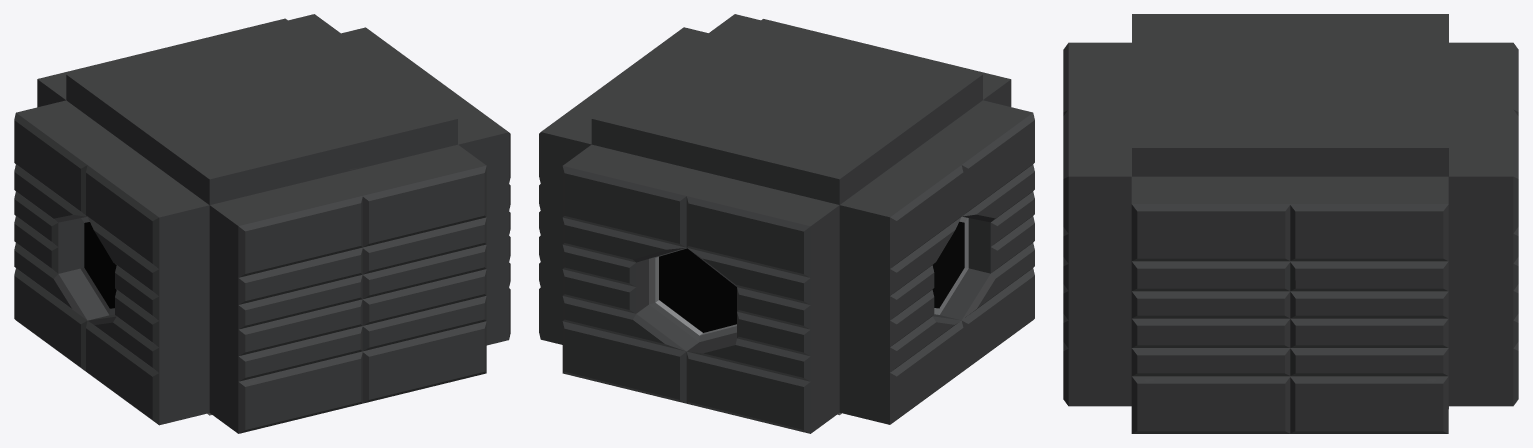
The model's file is connection.fbx.
The picture shows the model from 3 angles, left to right: view 1: azimuth 30°, elevation 25°; view 2: azimuth 150°, elevation 25°; view 3: azimuth 270°, elevation 25°; orthographic projection. The views are drawn at different scales.
Visible parts, largest first — view 1: c_wall4, c_wall1, c_celing, c_wall3, c_wall2; view 2: c_wall2, c_wall1, c_celing, c_wall3, c_wall4; view 3: c_wall3, c_celing, c_wall2, c_wall4.
Part boxes in pixels (left/top/right/bottom): c_wall4: left=209, top=144, right=486, bottom=433; c_wall1: left=14, top=100, right=209, bottom=425; c_celing: left=66, top=14, right=457, bottom=205; c_wall3: left=341, top=27, right=510, bottom=345; c_wall2: left=37, top=18, right=287, bottom=107; c_wall2: left=562, top=144, right=839, bottom=433; c_wall1: left=839, top=100, right=1034, bottom=424; c_celing: left=591, top=14, right=982, bottom=204; c_wall3: left=539, top=27, right=708, bottom=344; c_wall4: left=761, top=19, right=1011, bottom=106; c_wall3: left=1131, top=176, right=1448, bottom=433; c_celing: left=1132, top=14, right=1448, bottom=176; c_wall2: left=1448, top=42, right=1518, bottom=406; c_wall4: left=1063, top=42, right=1131, bottom=406.
Bounding box in the file's own units: 1443 × 920 × 1437.
